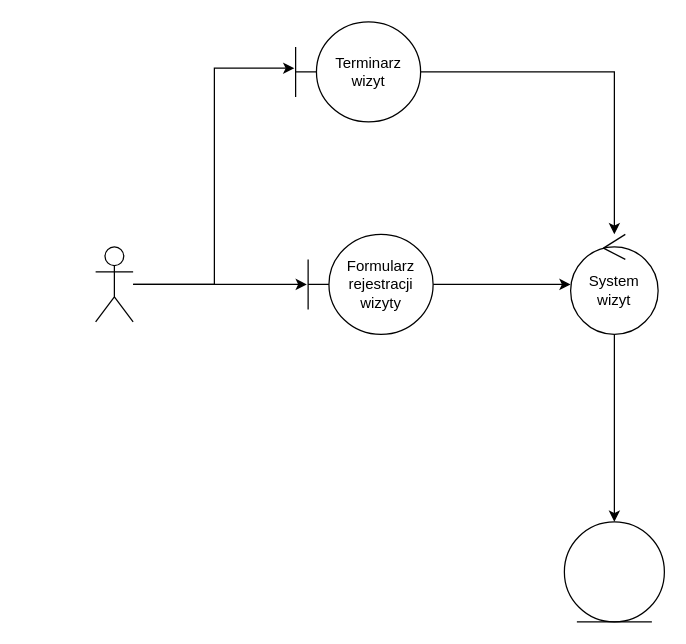
This 686x644 diagram has some shape labels left out. Each missing label, with the box of its shape:
Baza wizyt: (563, 521, 664, 622)
Pracownik adnministracyjny: (94, 246, 133, 322)
